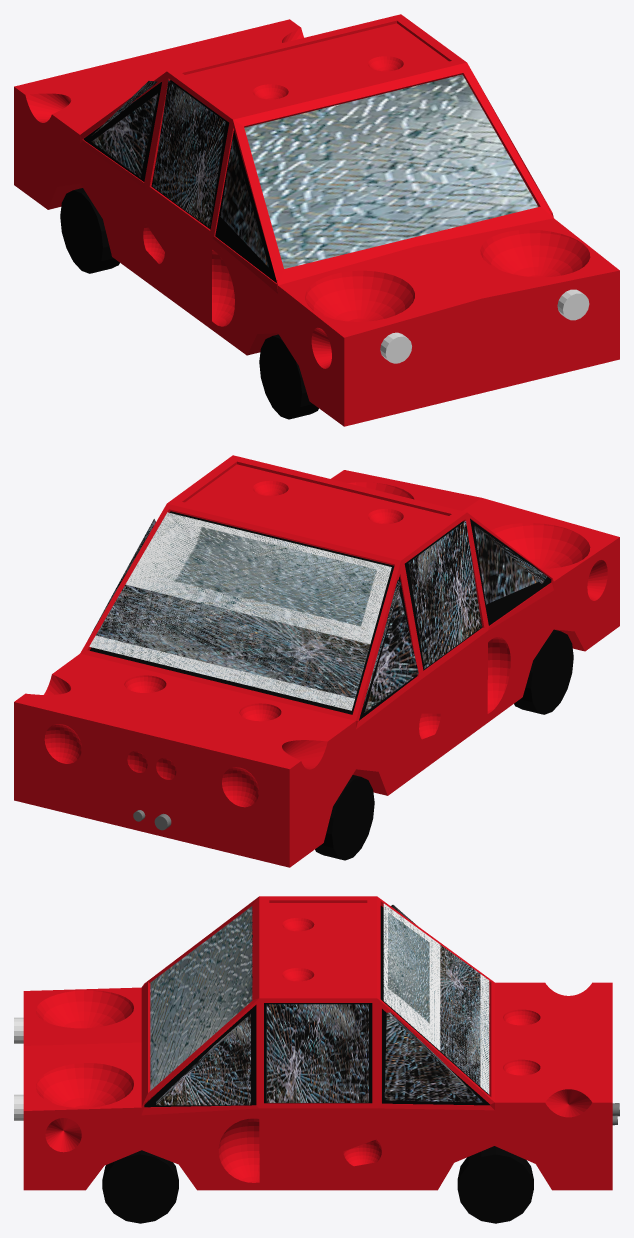
The model's file is CarRedStage3.fbx.
3 views of the same model, one above another, from view 1: azimuth 30°, elevation 25°; view 2: azimuth 150°, elevation 25°; view 3: azimuth 270°, elevation 25° (orthographic). The views are drawn at different scales.
Visible parts, largest first — view 1: Car, Vooruit kapot, wheels, Headlights; view 2: Car, Vooruit kapot, wheels; view 3: Car, Vooruit kapot, wheels, Headlights.
Boxes of the visible parts, left/top/right/bottom form: Car: left=14, top=14, right=619, bottom=426; Vooruit kapot: left=90, top=74, right=538, bottom=268; wheels: left=60, top=188, right=318, bottom=419; Headlights: left=380, top=289, right=589, bottom=363; Car: left=14, top=455, right=619, bottom=867; Vooruit kapot: left=89, top=512, right=547, bottom=712; wheels: left=315, top=629, right=573, bottom=860; Car: left=23, top=896, right=612, bottom=1190; Vooruit kapot: left=150, top=903, right=489, bottom=1105; wheels: left=102, top=1146, right=533, bottom=1223; Headlights: left=14, top=1017, right=23, bottom=1120.
Size of the model in its own units: 502 by 415 by 1049.
